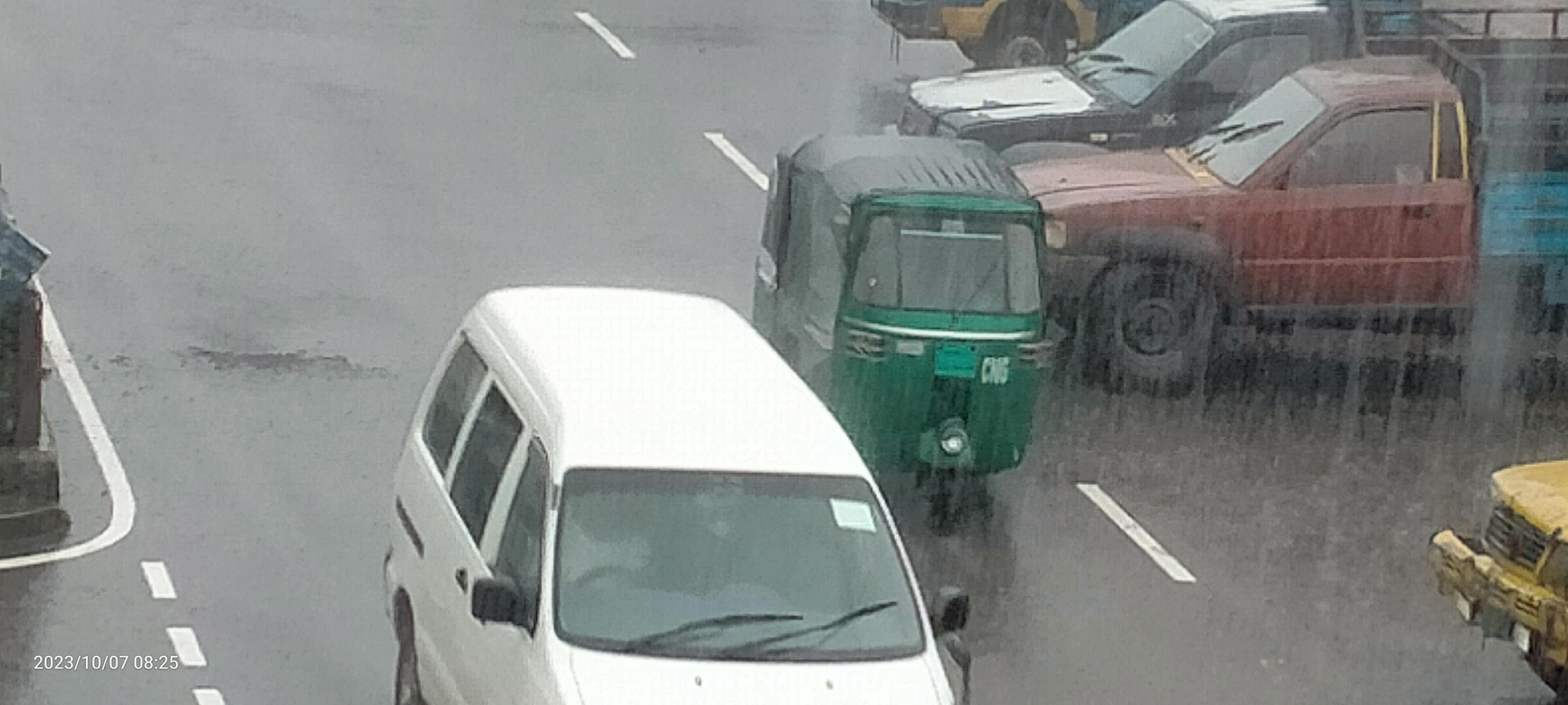Car: (320, 258, 1038, 705)
Truck: (971, 34, 1568, 421), (883, 6, 1568, 175), (1399, 371, 1568, 705)
